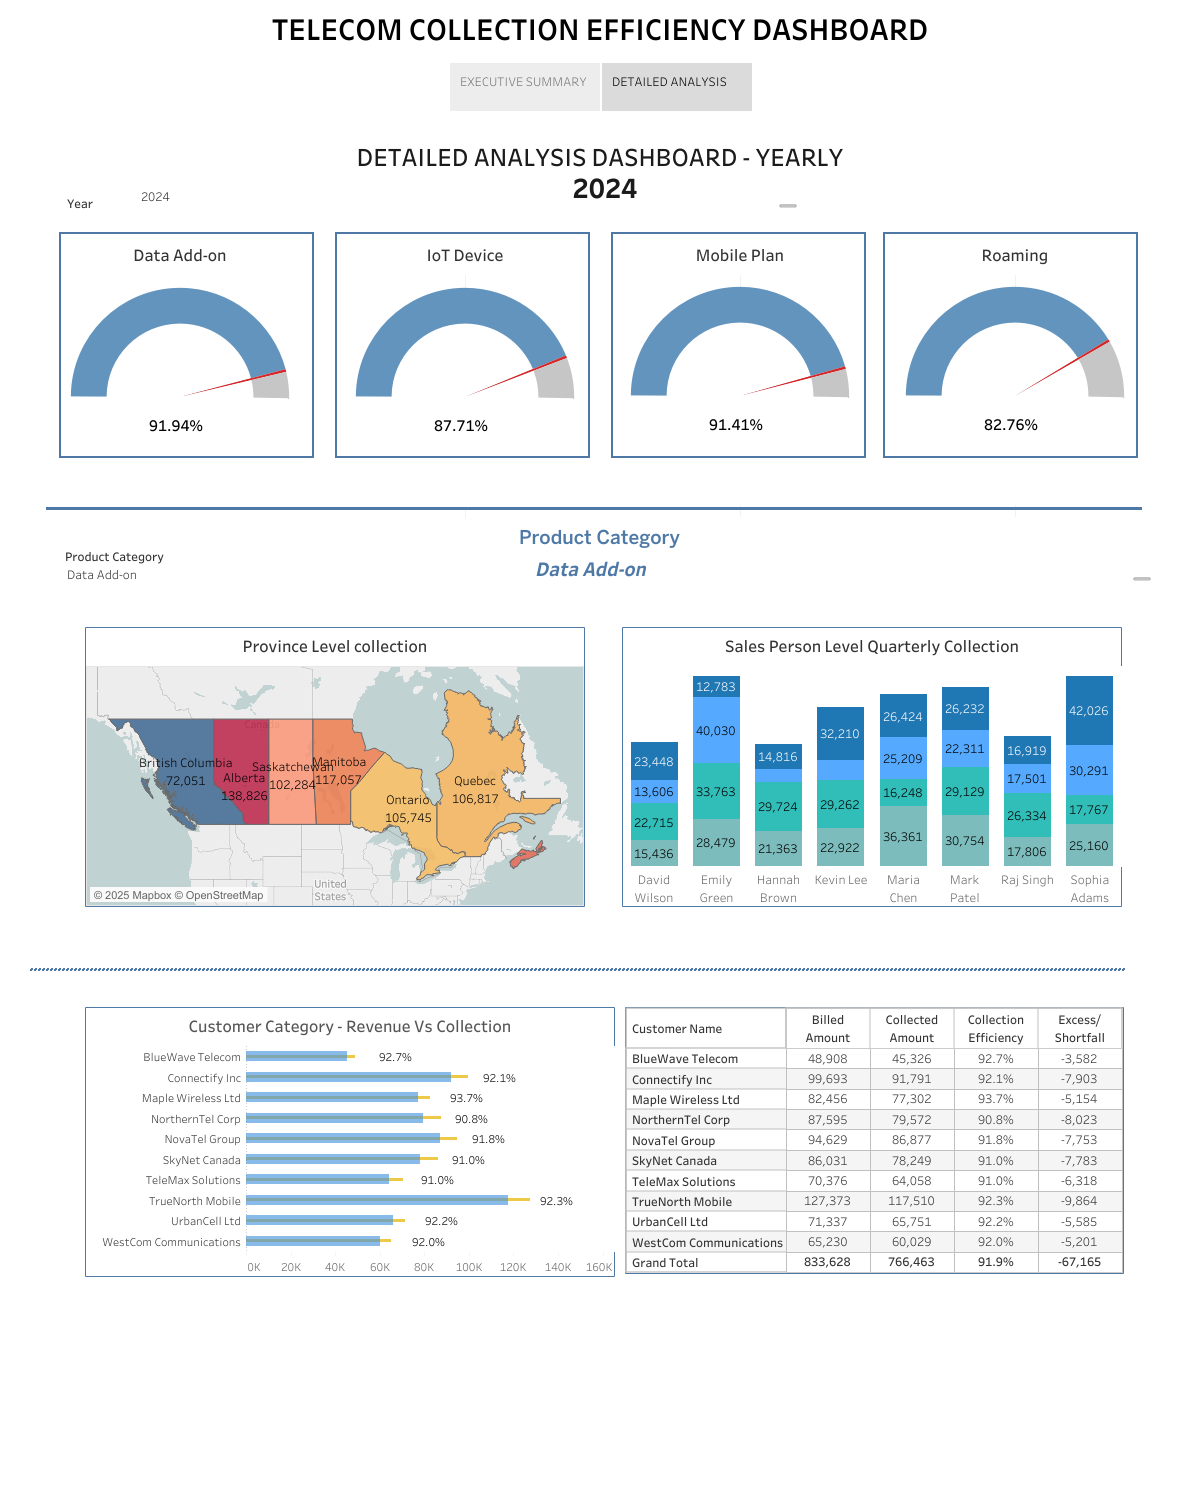

The dashboard page shown, as its layout file describes it:
{"tool":"tableau","page":{"name":"Detailed Dashboard","canvas":[1100,1200],"ordinal":0},"visuals":[{"type":"title","box":[8,8,1084,41]},{"type":"worksheet","title":"2.0.Year","mark":"Automatic","cols":["Invoice_Date"],"box":[381,42,366,38]},{"type":"filter","title":"2.1. Gauge Data","param":"[federated.1elfne01uk7lmr16cet4014lkqfg].[yr:Invoice_Date:ok]","box":[17,60,131,31]},{"type":"blank","box":[9,105,255,226]},{"type":"blank","box":[285,105,255,226]},{"type":"blank","box":[561,105,255,226]},{"type":"blank","box":[833,105,255,226]},{"type":"worksheet","title":"2.1. Gauge Data","mark":"Pie","cols":["Calculation_893401581409116180","Calculation_893401581409116180"],"box":[15,110,230,282]},{"type":"worksheet","title":"2.2. Gauge IoT ","mark":"Pie","cols":["Calculation_893401581409116180","Calculation_893401581409116180"],"box":[300,110,230,282]},{"type":"worksheet","title":"2.3. Gauge Mobile","mark":"Pie","cols":["Calculation_893401581409116180","Calculation_893401581409116180"],"box":[575,110,230,280]},{"type":"worksheet","title":"2.4. Gauge Roaming","mark":"Pie","cols":["Calculation_893401581409116180","Calculation_893401581409116180"],"box":[850,110,230,280]},{"type":"text","box":[0,395,1100,30]},{"type":"filter","title":"2.0.Year (2)","param":"[federated.1elfne01uk7lmr16cet4014lkqfg].[none:Product_Category:nk]","box":[15,419,160,44]},{"type":"worksheet","title":"2.0.Year (2)","mark":"Automatic","cols":["Product_Category"],"box":[1,431,1100,22]},{"type":"worksheet","title":"2.6.Map Product","mark":"Multipolygon","box":[35,500,500,280]},{"type":"worksheet","title":"2.7.Sales","mark":"Bar","rows":["Collected_Amount"],"cols":["Salesperson"],"box":[572,500,500,280]},{"type":"worksheet","title":"2.5.Customer","mark":"Bar","rows":["Customer_Name"],"cols":["Billed_Amount","Collected_Amount"],"box":[35,880,530,270]},{"type":"worksheet","title":"2.8.Sales T","mark":"Automatic","rows":["Customer_Name"],"box":[575,880,499,267]}]}

Visuals, with their boxes on the page's 1100x1200 design canvas (x1, y1, x2, y2). These are canvas units, not pixel positions in the 1199x1499 screenshot, which may show the page scaled, cropped or inside an application window:
title: {"left": 8, "top": 8, "right": 1092, "bottom": 49}
"2.0.Year" worksheet: {"left": 381, "top": 42, "right": 747, "bottom": 80}
"2.1. Gauge Data" filter: {"left": 17, "top": 60, "right": 148, "bottom": 91}
blank: {"left": 9, "top": 105, "right": 264, "bottom": 331}
blank: {"left": 285, "top": 105, "right": 540, "bottom": 331}
blank: {"left": 561, "top": 105, "right": 816, "bottom": 331}
blank: {"left": 833, "top": 105, "right": 1088, "bottom": 331}
"2.1. Gauge Data" worksheet (Pie marks): {"left": 15, "top": 110, "right": 245, "bottom": 392}
"2.2. Gauge IoT " worksheet (Pie marks): {"left": 300, "top": 110, "right": 530, "bottom": 392}
"2.3. Gauge Mobile" worksheet (Pie marks): {"left": 575, "top": 110, "right": 805, "bottom": 390}
"2.4. Gauge Roaming" worksheet (Pie marks): {"left": 850, "top": 110, "right": 1080, "bottom": 390}
text: {"left": 0, "top": 395, "right": 1100, "bottom": 425}
"2.0.Year (2)" filter: {"left": 15, "top": 419, "right": 175, "bottom": 463}
"2.0.Year (2)" worksheet: {"left": 1, "top": 431, "right": 1101, "bottom": 453}
"2.6.Map Product" worksheet (Multipolygon marks): {"left": 35, "top": 500, "right": 535, "bottom": 780}
"2.7.Sales" worksheet (Bar marks): {"left": 572, "top": 500, "right": 1072, "bottom": 780}
"2.5.Customer" worksheet (Bar marks): {"left": 35, "top": 880, "right": 565, "bottom": 1150}
"2.8.Sales T" worksheet: {"left": 575, "top": 880, "right": 1074, "bottom": 1147}
